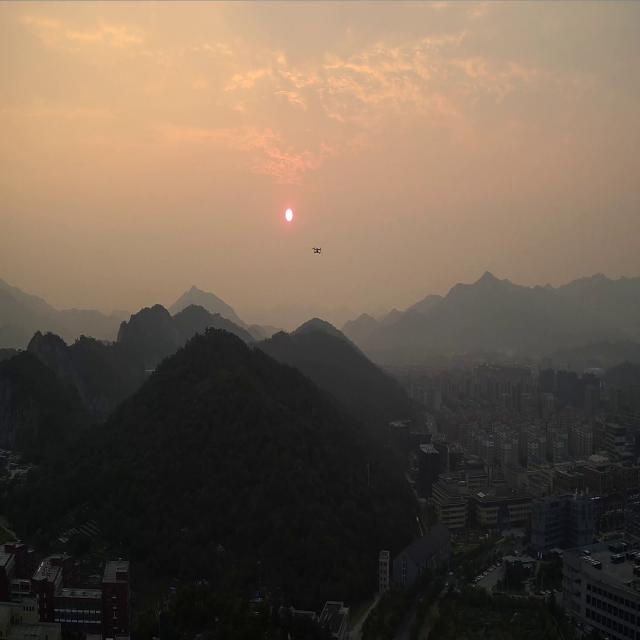drone: (312, 246, 322, 254)
